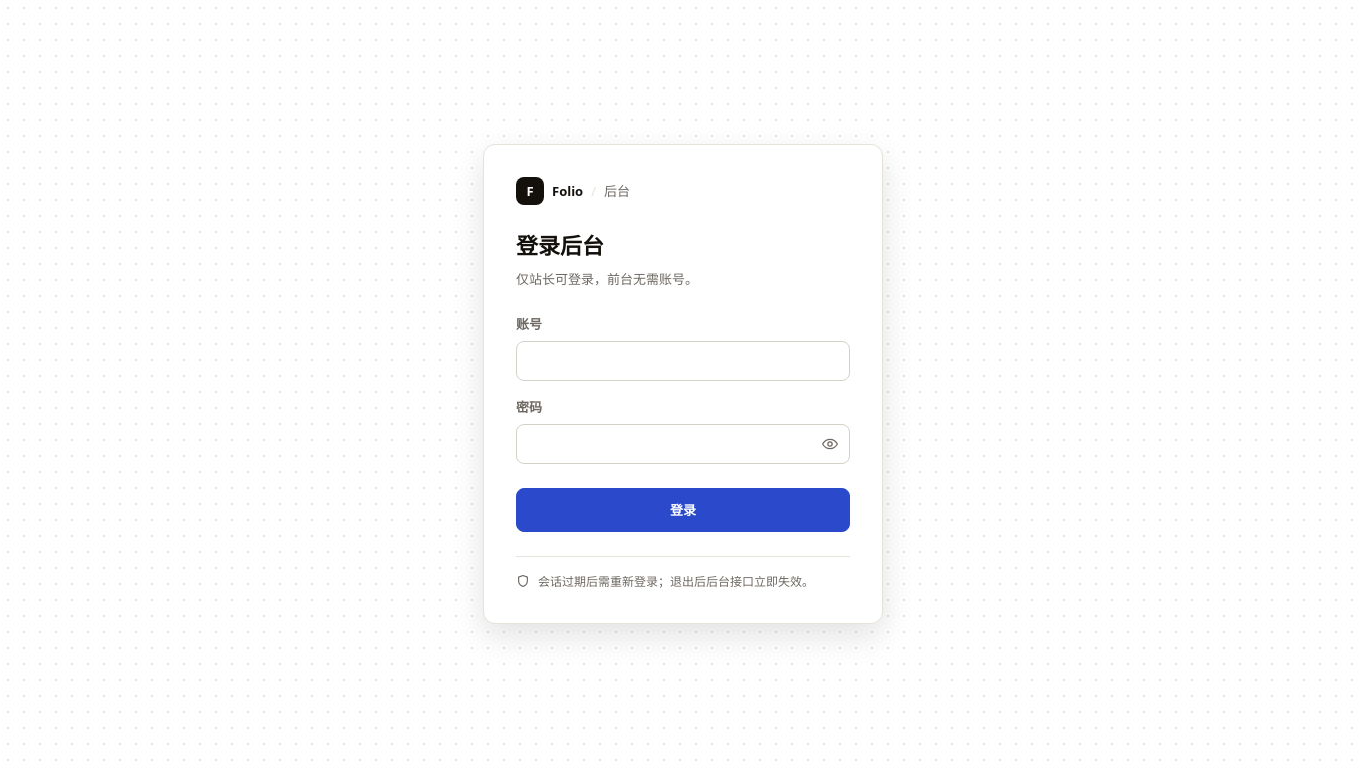
Test: LoginView（D1） › 错误凭据：错误只挂密码字段，文案固定且不透露账号是否存在
Type "admin" into the field labelled "账号".
click(683, 361); type("admin")  # box x1=516 y1=341 x2=850 y2=381
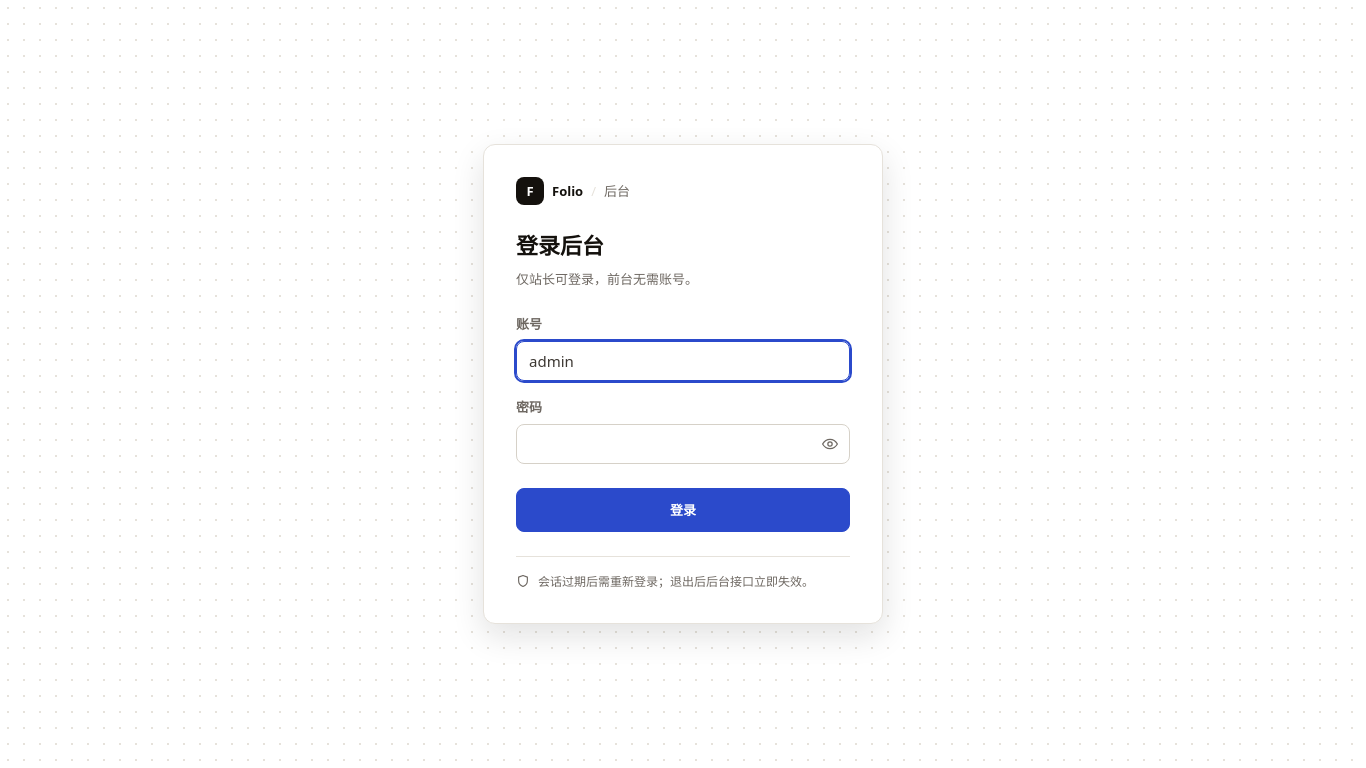
Type "wrong" into the password field labelled "密码".
click(683, 444); type("wrong")  # box x1=516 y1=424 x2=850 y2=464
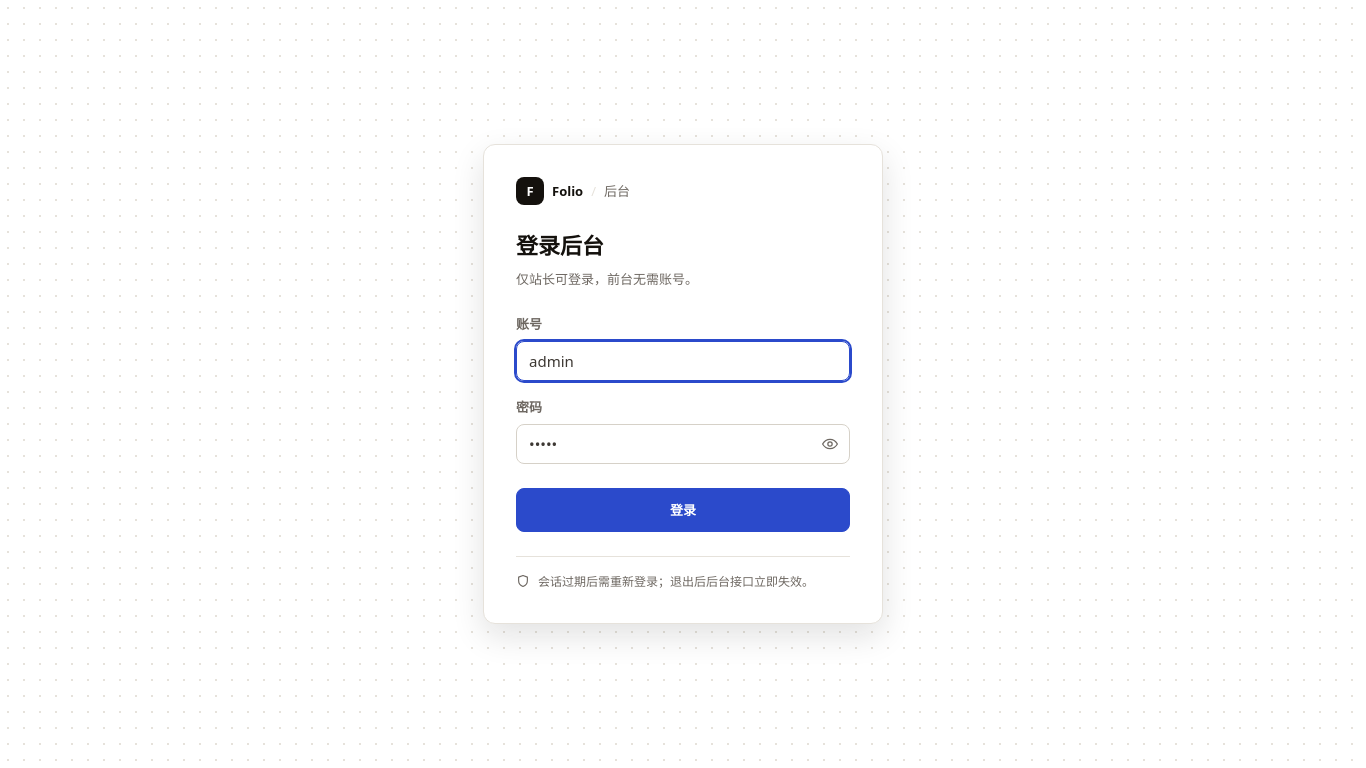
Click the button "登录".
click(683, 510)  # box x1=516 y1=488 x2=850 y2=532
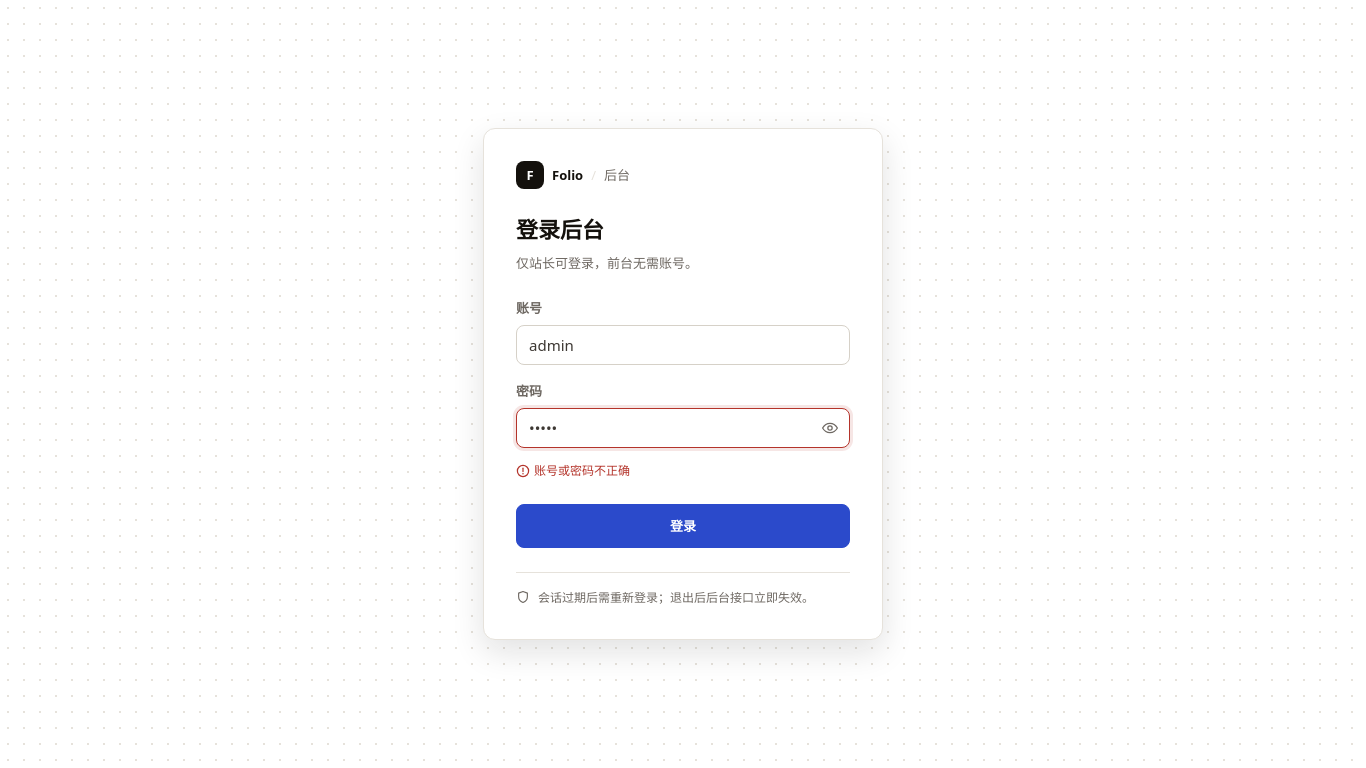
Expected: the message reads "账号或密码不正确", x1=534 y1=462 x2=630 y2=479
